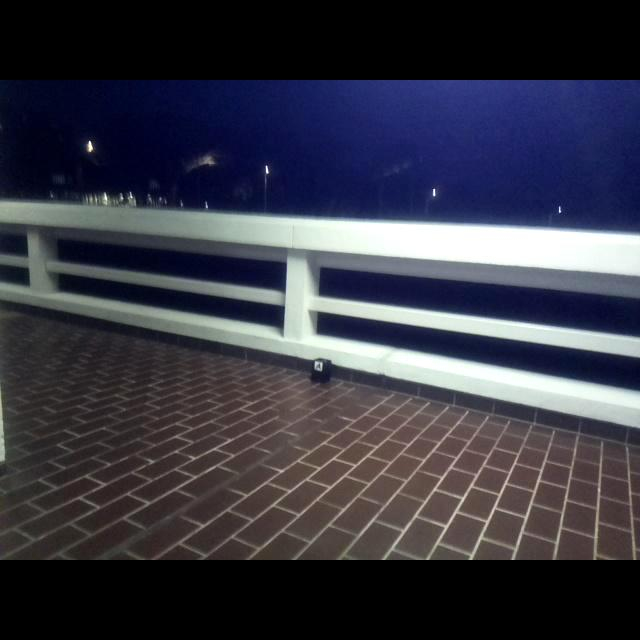A: (314, 363, 323, 371)
